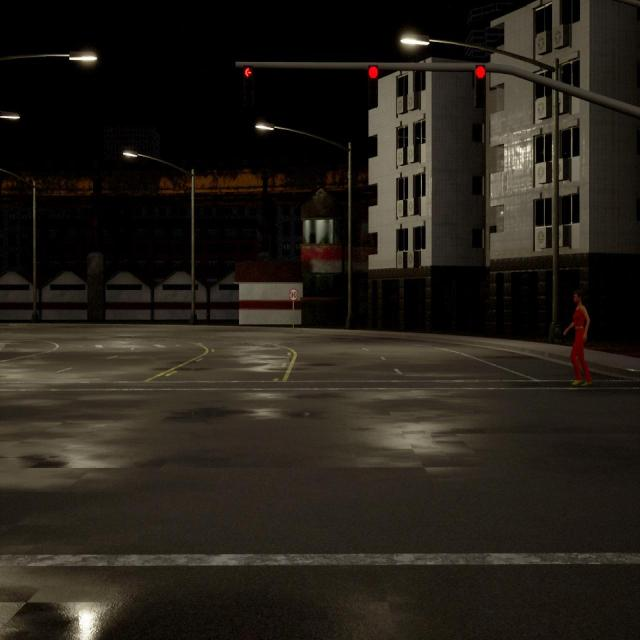Pedestrian: (563, 289, 590, 387)
Traffic_Signs: (290, 288, 297, 300)
traffic_light: (368, 64, 378, 106), (475, 65, 485, 106), (244, 66, 253, 102)
